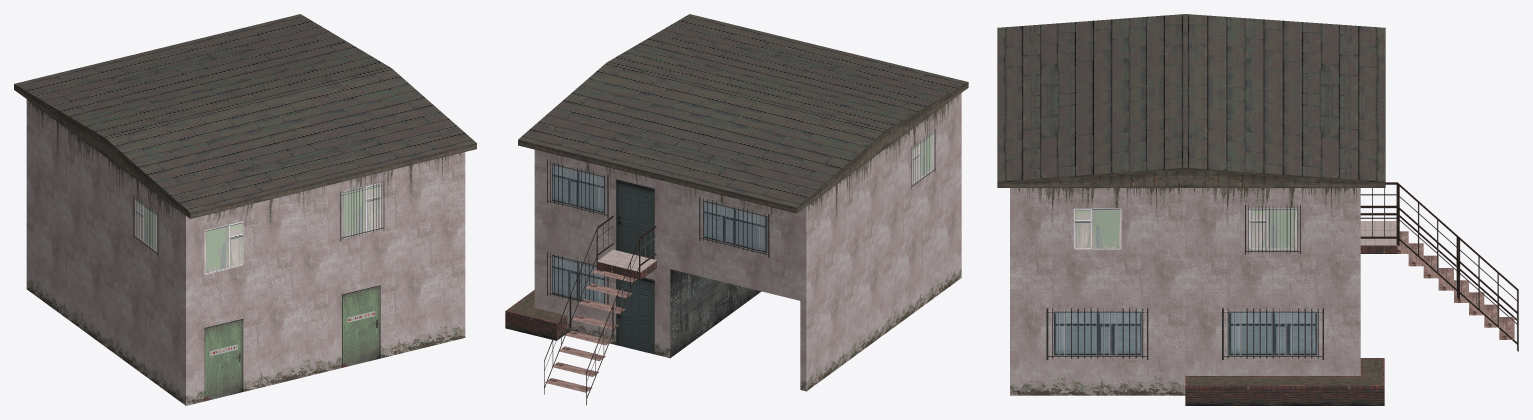
3 renders of one model, left to right at view 1: azimuth 30°, elevation 25°; view 2: azimuth 150°, elevation 25°; view 3: azimuth 270°, elevation 25°, orthographic. The views are drawn at different scales.
Parts seen in each view (by area): view 1: lowPHouse01, houseRoof, grillWindows.004, grillWindows.005; view 2: lowPHouse01, houseRoof, houseStairs, Cube.002, grillWindows.006, grillWindows, lowPHouse01.001, grillWindows.007, houseStairs.001, houseStairs.002, grillWindows.005; view 3: lowPHouse01, houseRoof, Cube.002, houseStairs, grillWindows.003, grillWindows.002, houseStairs.002, houseStairs.001, grillWindows.001, lowPHouse01.001.
Part boxes in pixels (box(x1,y1,x2,y2)): lowPHouse01: box(26, 99, 465, 405); houseRoof: box(14, 14, 476, 218); grillWindows.004: box(340, 181, 384, 241); grillWindows.005: box(133, 194, 158, 256); lowPHouse01: box(534, 93, 961, 391); houseRoof: box(518, 14, 968, 213); houseStairs: box(545, 269, 637, 392); Cube.002: box(505, 290, 567, 340); grillWindows.006: box(699, 197, 769, 257); grillWindows: box(547, 160, 608, 218); lowPHouse01.001: box(596, 249, 656, 279); grillWindows.007: box(547, 252, 608, 304); houseStairs.001: box(586, 226, 656, 405); houseStairs.002: box(544, 215, 613, 394); grillWindows.005: box(911, 128, 935, 189); lowPHouse01: box(1010, 188, 1360, 395); houseRoof: box(997, 14, 1385, 187); Cube.002: box(1185, 358, 1384, 405); houseStairs: box(1397, 231, 1514, 339); grillWindows.003: box(1046, 308, 1148, 359); grillWindows.002: box(1222, 308, 1323, 359); houseStairs.002: box(1360, 205, 1518, 351); houseStairs.001: box(1360, 182, 1518, 320); grillWindows.001: box(1245, 205, 1300, 254); lowPHouse01.001: box(1360, 221, 1397, 253).
Size of the model in its own units: 8.72 by 5.84 by 11.93.
2 materials, 2 textured.
